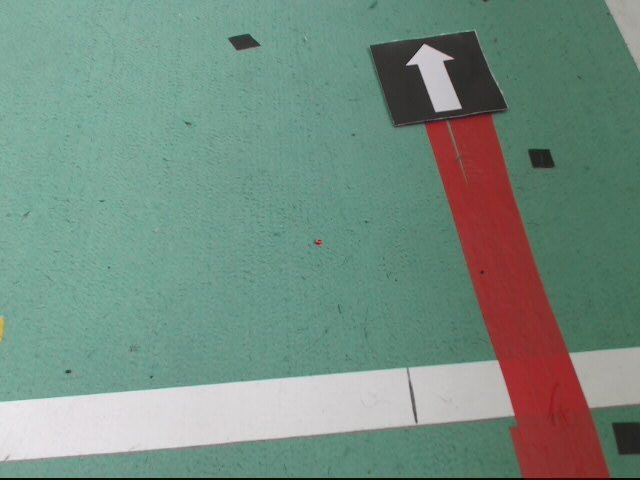straight: (372, 28, 506, 129)
